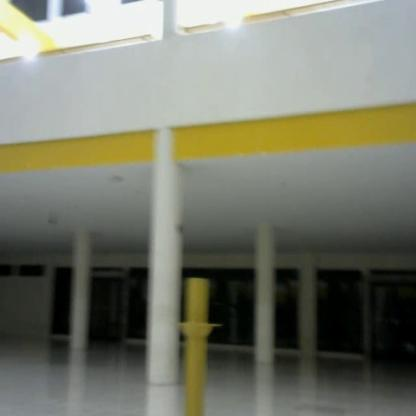pole: (170, 275, 223, 416)
